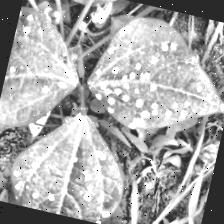Bean Rust: (77, 6, 224, 148), (2, 106, 139, 224), (0, 4, 91, 139)
